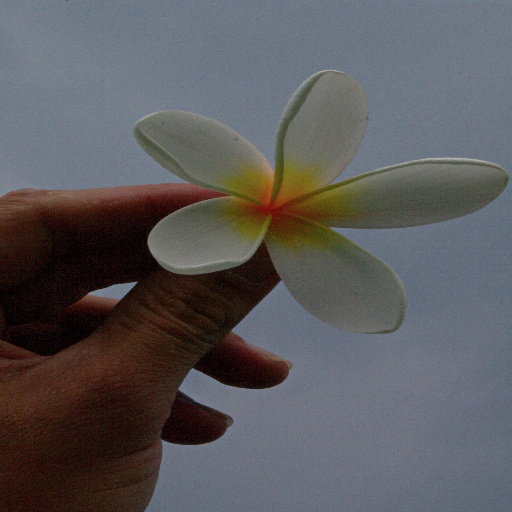hand: (0, 181, 293, 511)
